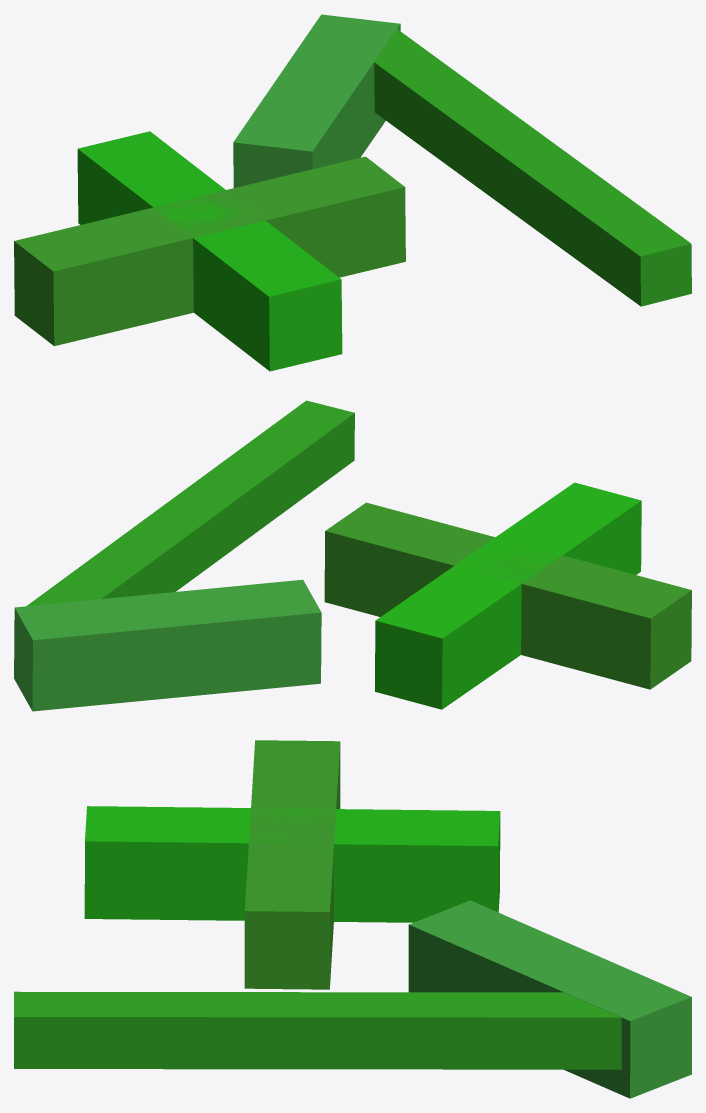
The model's file is PointPlus.fbx.
The picture shows the model from 3 angles, top to bottom: view 1: azimuth 30°, elevation 25°; view 2: azimuth 150°, elevation 25°; view 3: azimuth 270°, elevation 25°; orthographic projection. The views are drawn at different scales.
Parts seen in each view (by area): view 1: Cube.003, Cube.001, Cube.004, Cube.002; view 2: Cube.002, Cube.003, Cube.004, Cube.001; view 3: Cube.001, Cube.004, Cube.002, Cube.003.
Part boxes in pixels (bbox=[...]): Cube.003: bbox=[14, 156, 405, 346]; Cube.001: bbox=[374, 29, 691, 306]; Cube.004: bbox=[77, 131, 342, 371]; Cube.002: bbox=[233, 14, 400, 187]; Cube.002: bbox=[14, 579, 321, 711]; Cube.003: bbox=[324, 502, 691, 689]; Cube.004: bbox=[375, 482, 641, 709]; Cube.001: bbox=[26, 400, 354, 606]; Cube.001: bbox=[14, 991, 621, 1069]; Cube.004: bbox=[84, 806, 500, 922]; Cube.002: bbox=[408, 900, 691, 1098]; Cube.003: bbox=[244, 740, 340, 989].
Size of the model in its own units: 14.81 by 2.54 by 15.91.
